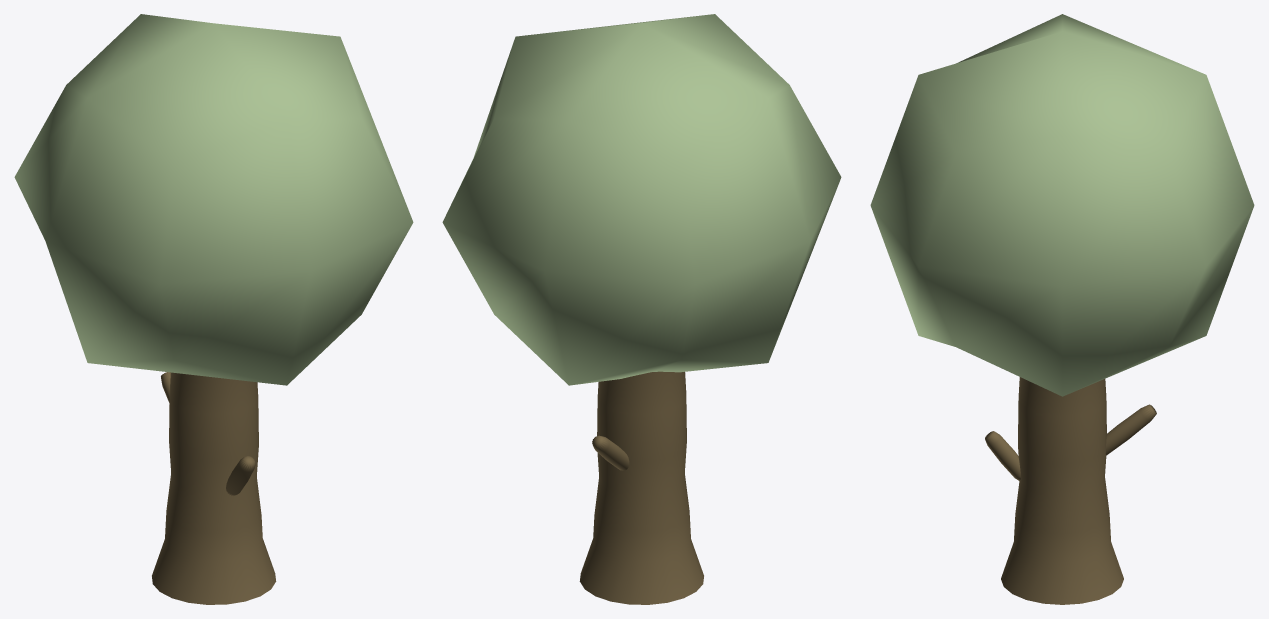
File: treeWBranches.fbx
3 renders of one model, left to right at view 1: azimuth 30°, elevation 25°; view 2: azimuth 150°, elevation 25°; view 3: azimuth 270°, elevation 25°, orthographic.
Parts seen in each view (by area): view 1: treeWBranchesCom; view 2: treeWBranchesCom; view 3: treeWBranchesCom.
Part boxes in pixels (box(x1,y1,x2,y2)): treeWBranchesCom: box(14, 14, 413, 604); treeWBranchesCom: box(442, 14, 841, 604); treeWBranchesCom: box(870, 14, 1254, 604).
Size of the model in its own units: 2.07 by 3.25 by 2.07.
